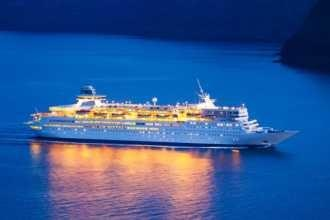youlun: (26, 77, 300, 147)
